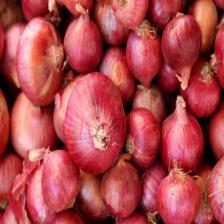onion: (63, 72, 127, 176), (16, 17, 65, 106), (29, 148, 81, 213), (160, 96, 204, 172), (161, 11, 202, 90), (100, 153, 142, 219), (156, 165, 200, 224), (125, 20, 163, 87), (124, 106, 161, 169)
